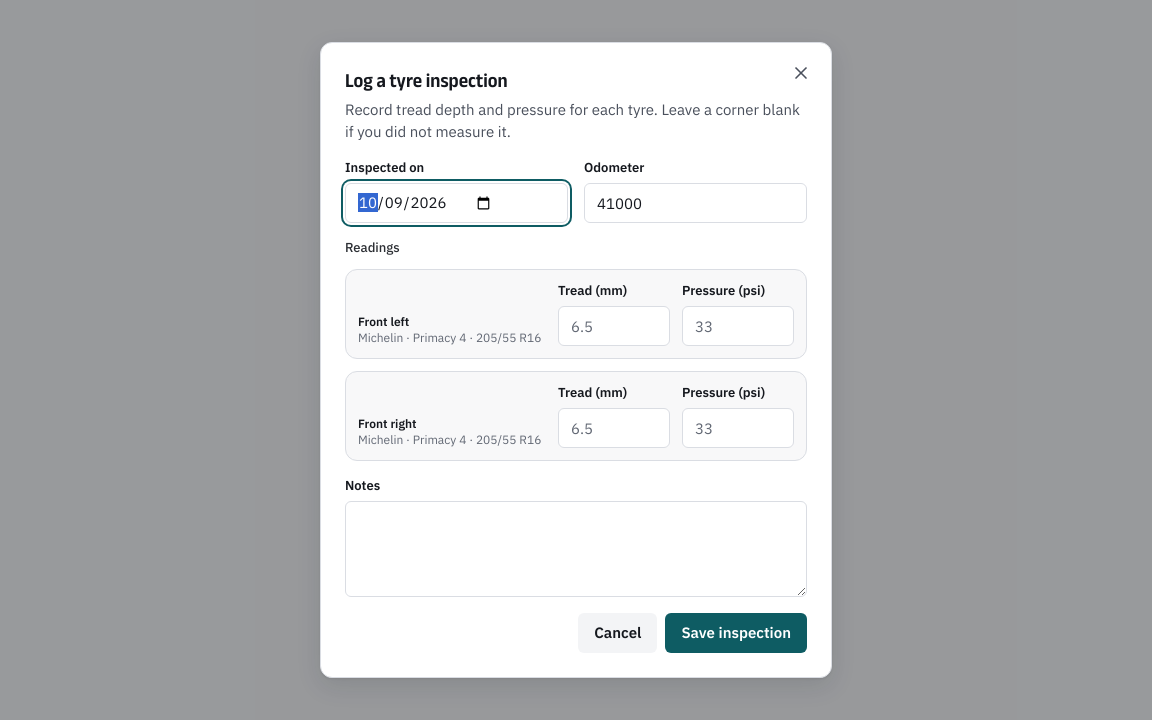
Test: TyreInspectionDialog › refuses a walk-around where nothing was written down
Click the button "Save inspection": (736, 633) left=665, top=613, right=807, bottom=653
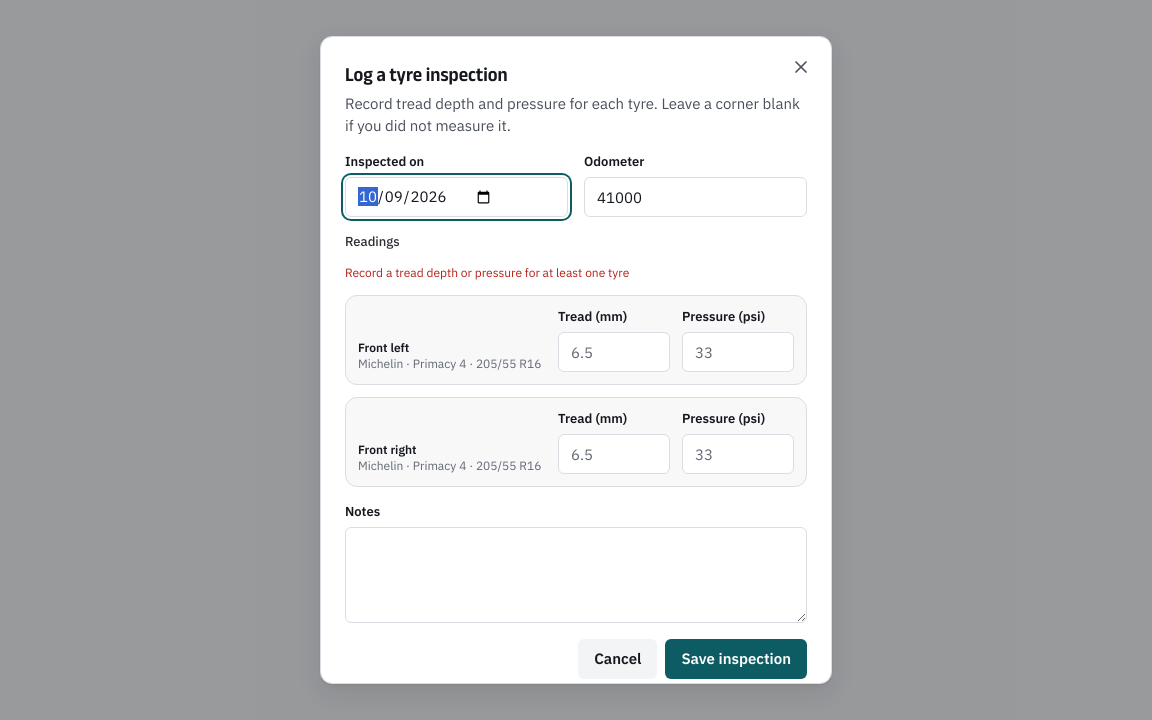
Check: the text "Record a tread depth or pressure for at least one tyre" is shown, box left=345, top=265, right=629, bottom=280
